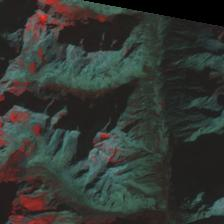landslides: (113, 128, 163, 158), (82, 93, 99, 131), (82, 213, 140, 224), (128, 116, 152, 131), (114, 0, 128, 17), (171, 107, 200, 115), (98, 91, 104, 129), (71, 63, 75, 92)
